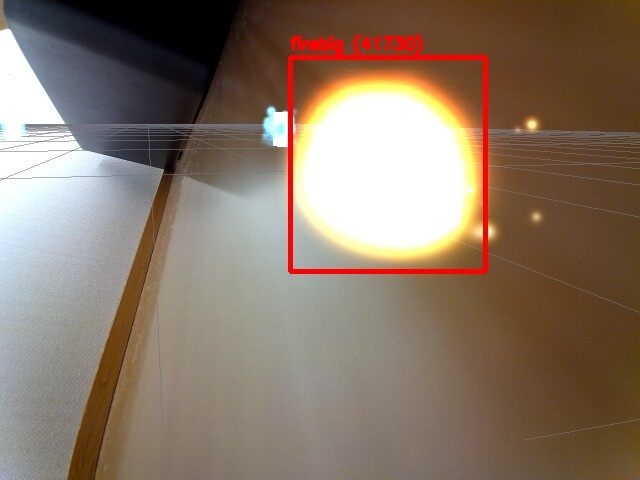firebig: (290, 57, 485, 271)
